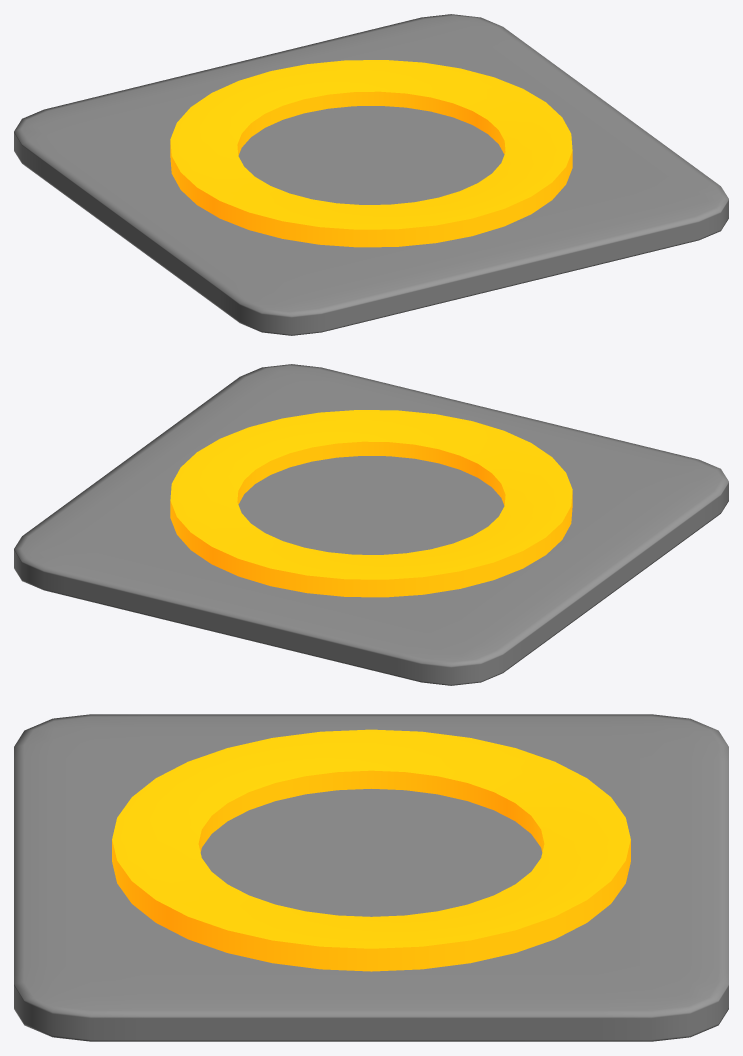
The model's file is ButtonTileModel.fbx.
The picture shows the model from 3 angles, top to bottom: view 1: azimuth 30°, elevation 25°; view 2: azimuth 150°, elevation 25°; view 3: azimuth 270°, elevation 25°; orthographic projection. The views are drawn at different scales.
Parts seen in each view (by area): view 1: ButtonTile, ButtonTileGlow; view 2: ButtonTile, ButtonTileGlow; view 3: ButtonTile, ButtonTileGlow.
Part boxes in pixels (x1,y1,x2,y2): ButtonTile: (14,14,728,335); ButtonTileGlow: (170,60,572,247); ButtonTile: (14,364,728,685); ButtonTileGlow: (170,410,572,597); ButtonTile: (14,714,728,1041); ButtonTileGlow: (112,729,630,971).
Size of the model in its own units: 200 by 16.94 by 200.
